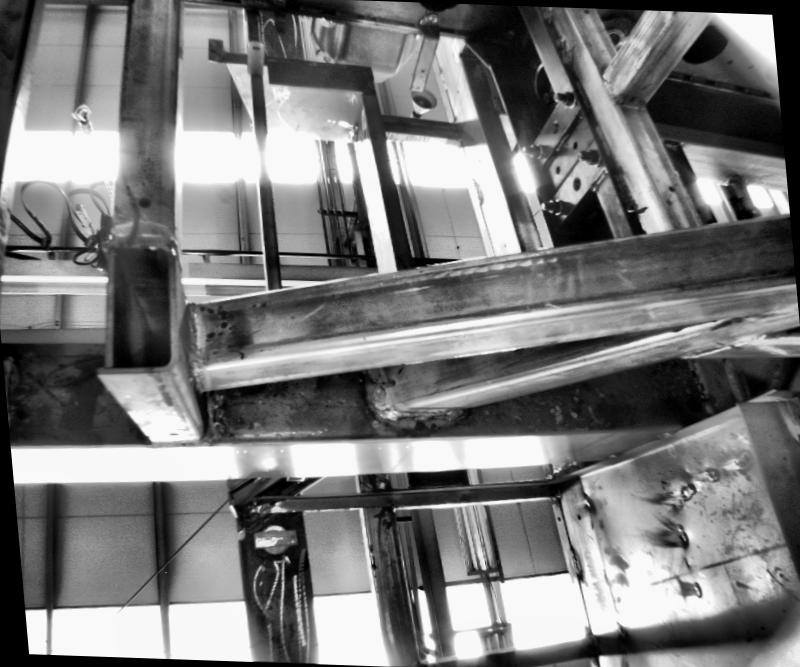bolt: (550, 83, 578, 105), (575, 147, 606, 165), (536, 194, 562, 212), (519, 140, 542, 155)
bracket: (512, 78, 622, 224), (403, 8, 445, 91), (241, 25, 264, 73)
hole: (132, 190, 152, 208), (570, 176, 582, 191), (548, 117, 561, 130), (382, 375, 397, 386), (552, 163, 560, 173), (571, 137, 579, 147), (166, 430, 177, 437), (668, 183, 676, 191), (248, 40, 258, 46), (499, 240, 507, 247), (412, 81, 419, 88), (574, 512, 581, 518), (419, 66, 425, 72), (555, 514, 558, 519), (454, 88, 457, 92)
welding: (371, 402, 462, 421), (180, 301, 204, 363), (366, 364, 394, 414), (566, 545, 580, 576), (434, 68, 448, 88), (416, 10, 438, 20)
